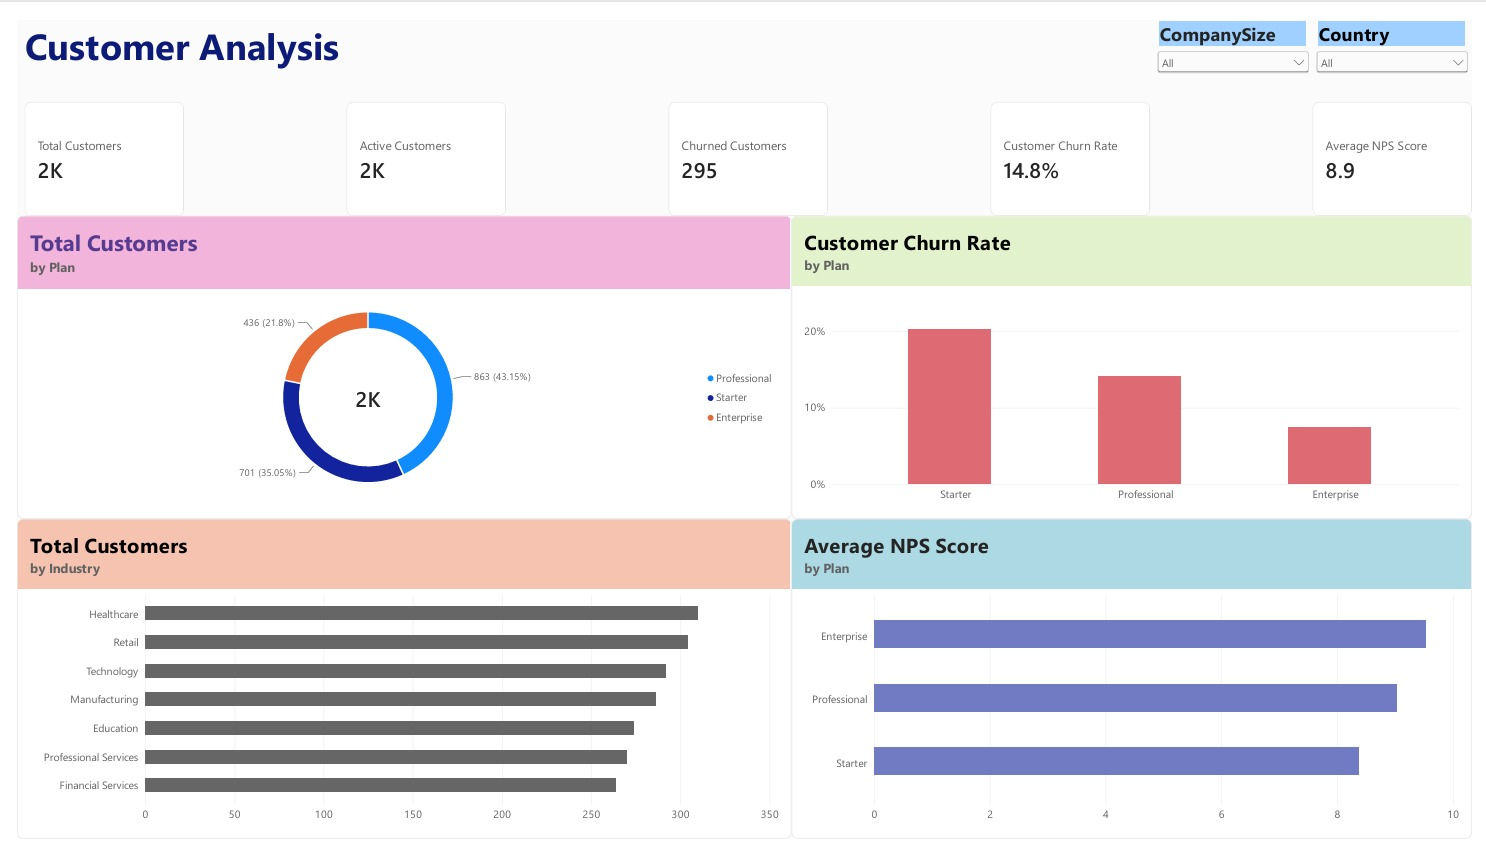

The page's visual inventory and layout, read from the dashboard file:
{"tool":"powerbi","page":{"name":"Customer Analysis","canvas":[1920,1080],"ordinal":1},"visuals":[{"type":"textbox","box":[10,0,1126,74],"z":0},{"type":"cardVisual","fields":{"Data":["Customers.Total Customers"]},"box":[10,108,210,150],"z":1000},{"type":"cardVisual","fields":{"Data":["Customers.Active Customers"]},"box":[435,108,210,150],"z":2000},{"type":"cardVisual","fields":{"Data":["Customers.Churned Customers"]},"box":[860,108,210,150],"z":3000},{"type":"cardVisual","fields":{"Data":["Customers.Customer Churn Rate"]},"box":[1285,108,210,150],"z":4000},{"type":"cardVisual","fields":{"Data":["Engagement.Average NPS Score"]},"box":[1710,108,210,150],"z":5000},{"type":"donutChart","fields":{"Category":["Customers.Plan"],"Y":["Customers.Total Customers"]},"box":[0,258,1022,400],"z":6000},{"type":"clusteredBarChart","fields":{"Category":["Customers.Industry"],"Y":["Customers.Total Customers"]},"box":[0,658,1022,422],"z":7000},{"type":"clusteredColumnChart","fields":{"Category":["Customers.Plan"],"Y":["Customers.Customer Churn Rate"]},"box":[1022,258,898,400],"z":8000},{"type":"clusteredBarChart","fields":{"Category":["Customers.Plan"],"Y":["Engagement.Average NPS Score"]},"box":[1022,658,898,422],"z":9000},{"type":"slicer","fields":{"Values":["Customers.Country"]},"box":[1710,2,210,106],"z":10000},{"type":"slicer","fields":{"Values":["Customers.CompanySize"]},"box":[1500,2,210,108],"z":11000}]}

Visuals, with their boxes in screenshot pixels (x1, y1, x2, y2), scaled from the page's 1920x1080 canvas onto the 1486x852 screenshot:
textbox: x1=8 y1=0 x2=879 y2=58
cardVisual - Customers.Total Customers: x1=8 y1=85 x2=170 y2=204
cardVisual - Customers.Active Customers: x1=337 y1=85 x2=499 y2=204
cardVisual - Customers.Churned Customers: x1=666 y1=85 x2=828 y2=204
cardVisual - Customers.Customer Churn Rate: x1=995 y1=85 x2=1157 y2=204
cardVisual - Engagement.Average NPS Score: x1=1323 y1=85 x2=1485 y2=204
donutChart - Customers.Plan x Customers.Total Customers: x1=0 y1=204 x2=791 y2=519
clusteredBarChart - Customers.Industry x Customers.Total Customers: x1=0 y1=519 x2=791 y2=851
clusteredColumnChart - Customers.Plan x Customers.Customer Churn Rate: x1=791 y1=204 x2=1485 y2=519
clusteredBarChart - Customers.Plan x Engagement.Average NPS Score: x1=791 y1=519 x2=1485 y2=851
slicer - Customers.Country: x1=1323 y1=2 x2=1485 y2=85
slicer - Customers.CompanySize: x1=1161 y1=2 x2=1323 y2=87
